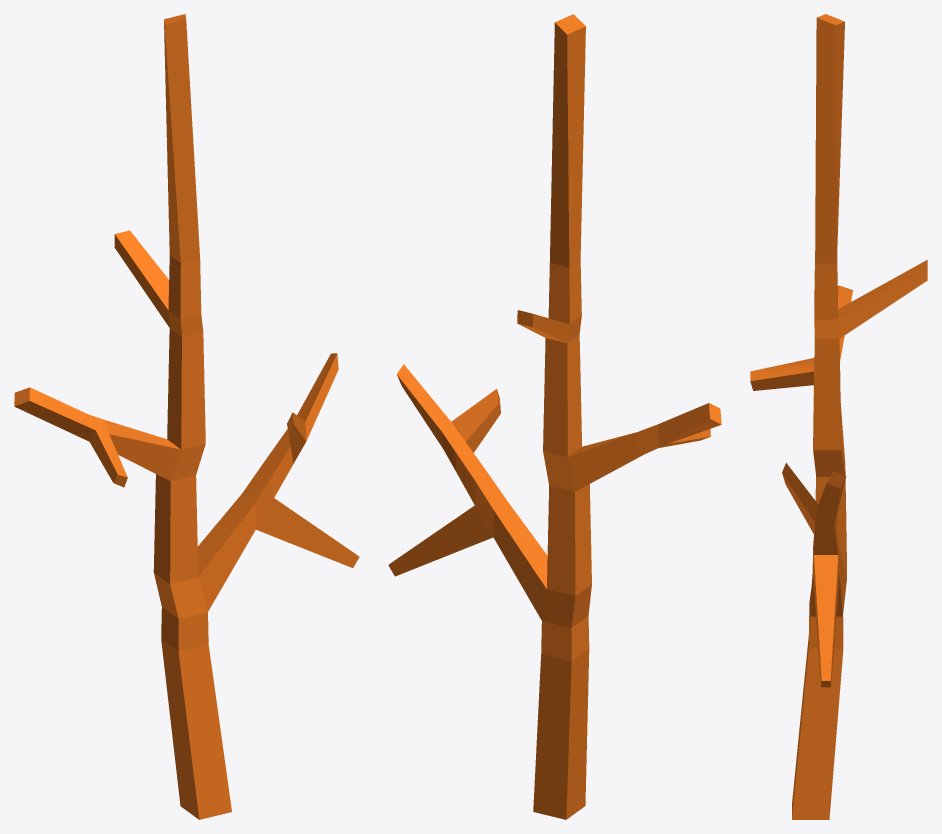
The model's file is branch.fbx.
The picture shows the model from 3 angles, left to right: view 1: azimuth 30°, elevation 25°; view 2: azimuth 150°, elevation 25°; view 3: azimuth 270°, elevation 25°; orthographic projection.
Visible parts, largest first — view 1: Cube; view 2: Cube; view 3: Cube.
Boxes of the visible parts, x1=… form: Cube: x1=14, y1=14, x2=359, y2=819; Cube: x1=388, y1=14, x2=721, y2=819; Cube: x1=750, y1=14, x2=927, y2=819.
Bounding box in the file's own units: 116 × 261 × 53.36.
